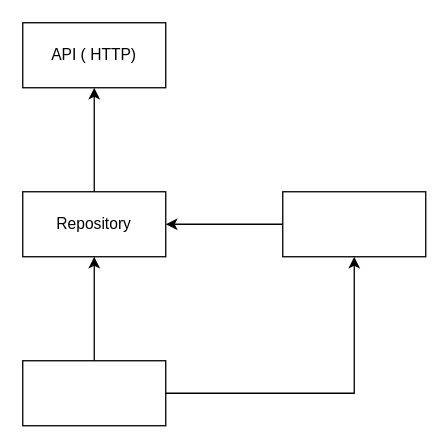
The diagram is 448 pixels wide and 448 high, and some of its shapes have lost their labels. Here are the shapes that lost their labels. From the top down, the centre of each, then its label:
At (x=353, y=223): "Store".
At (x=93, y=392): "Facade".
